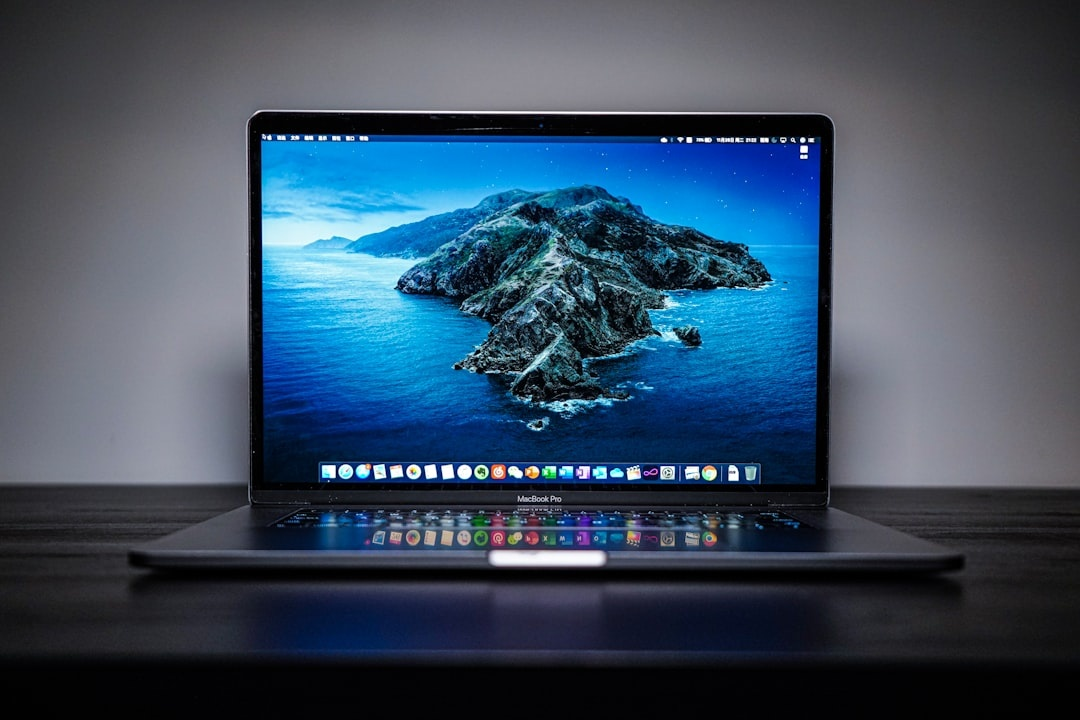laptop: (79, 51, 1009, 609)
